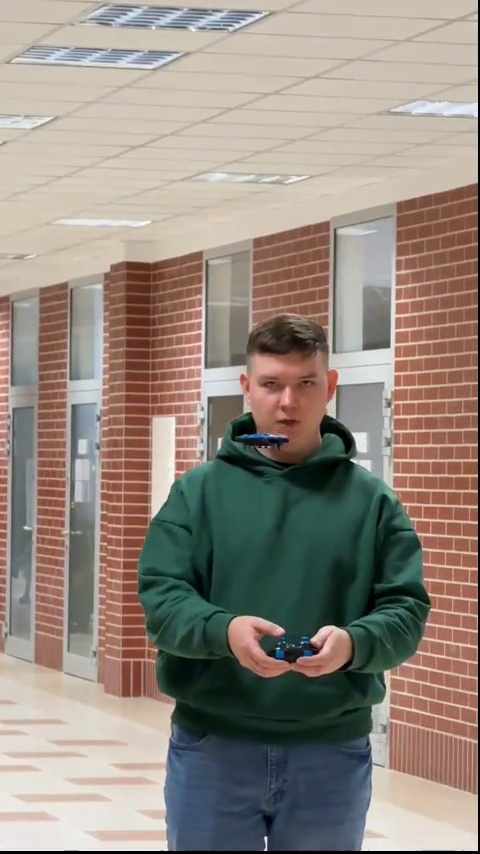drone: (241, 429, 292, 449)
no vest: (132, 316, 439, 839)
